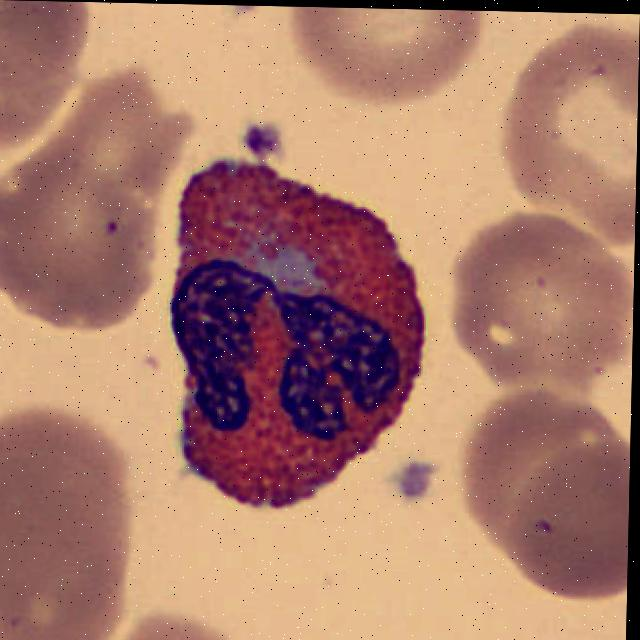eosinophil: (162, 145, 432, 535)
rbc: (0, 367, 137, 640), (446, 213, 635, 394), (500, 11, 640, 236), (0, 147, 164, 337), (465, 392, 628, 555), (503, 434, 631, 613), (286, 7, 478, 107), (0, 0, 77, 160), (103, 613, 241, 640)
